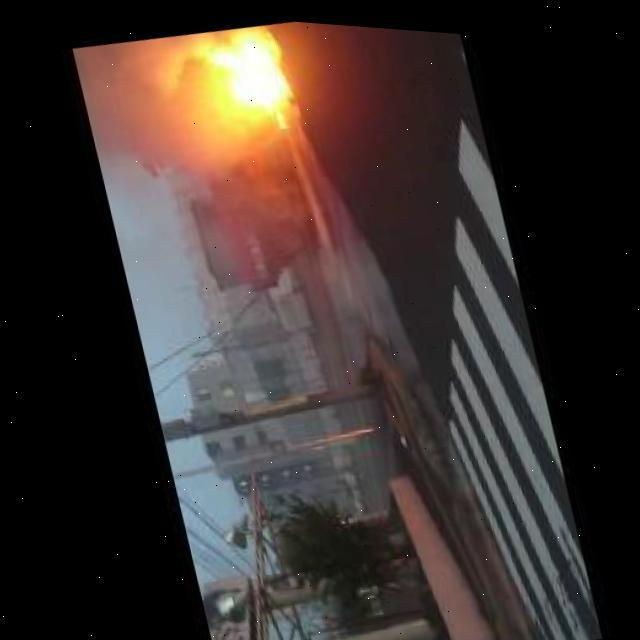fire: (69, 21, 232, 167), (201, 14, 302, 138)
